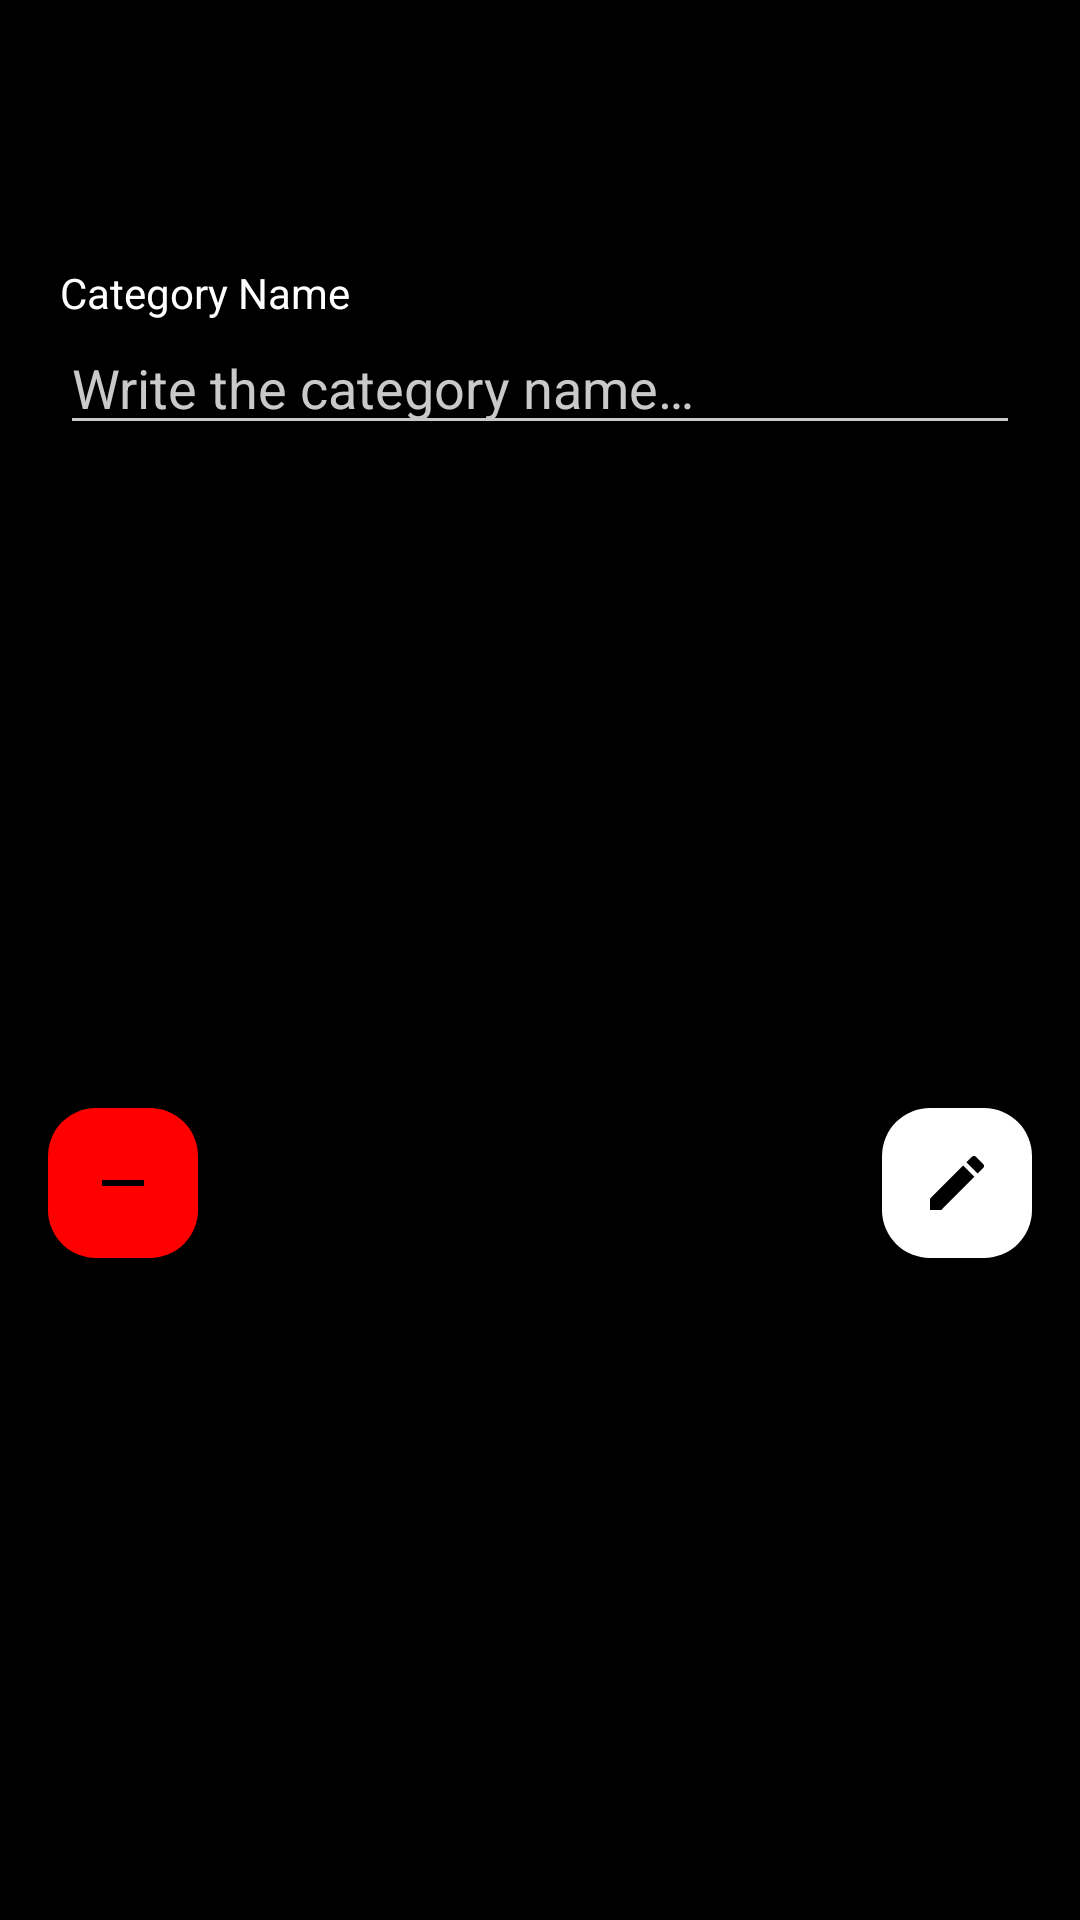

Icon click points for this 1080 × 1920 phone screenshot, format (x=x, y=y):
delete: (x=123, y=1183)
